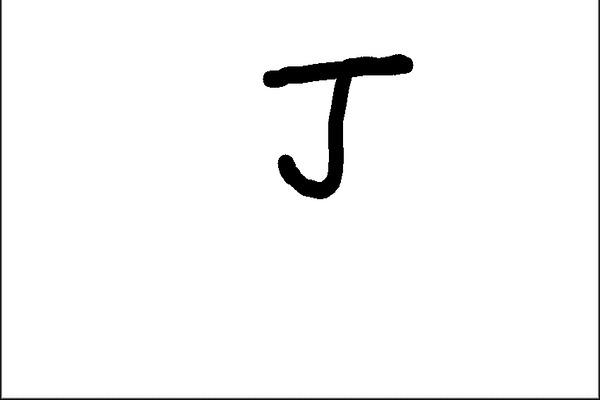J: (253, 51, 420, 202)
